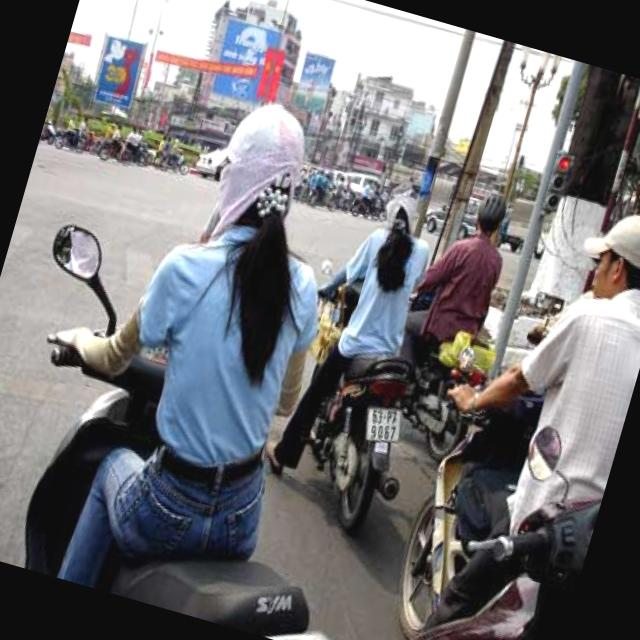Vehicle: (0, 214, 448, 640), (386, 400, 616, 640), (271, 282, 448, 542), (384, 379, 541, 640), (388, 344, 492, 469), (422, 193, 482, 246), (192, 140, 230, 182), (342, 169, 382, 202), (152, 145, 192, 178), (97, 134, 129, 166), (347, 192, 380, 222)
